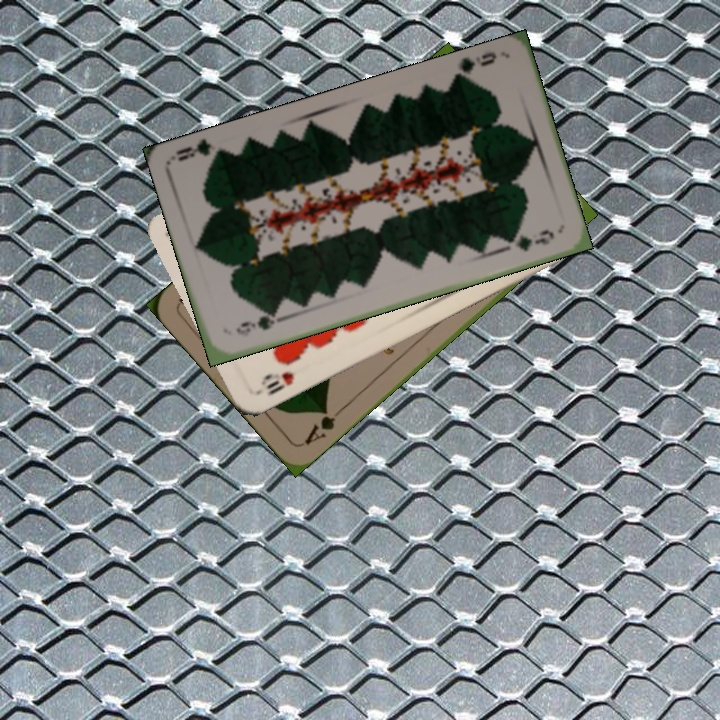G9: (450, 47, 499, 83), (231, 308, 282, 339)
GA: (300, 403, 347, 447)
H10: (254, 367, 297, 398)
